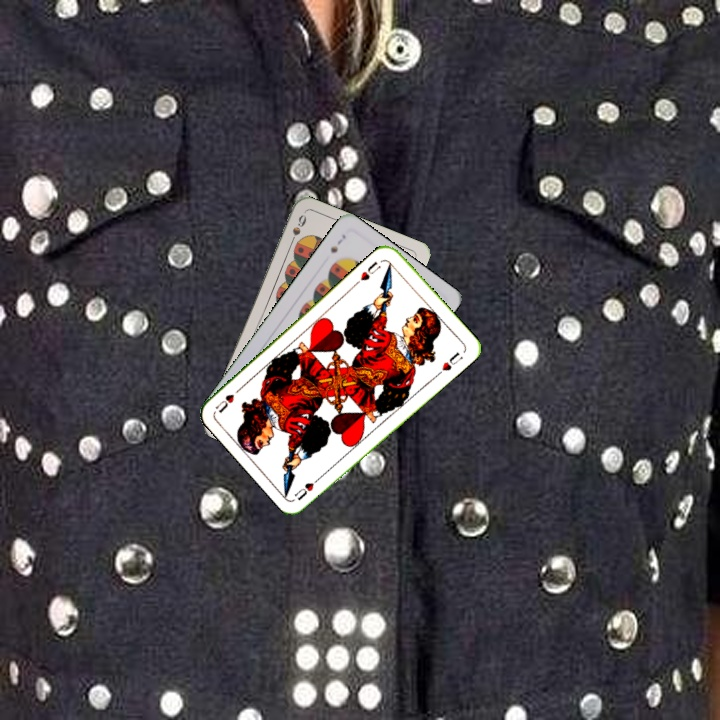HU: (290, 471, 325, 503), (356, 257, 383, 283)
S7: (326, 230, 348, 255)
S9: (285, 210, 309, 249)
